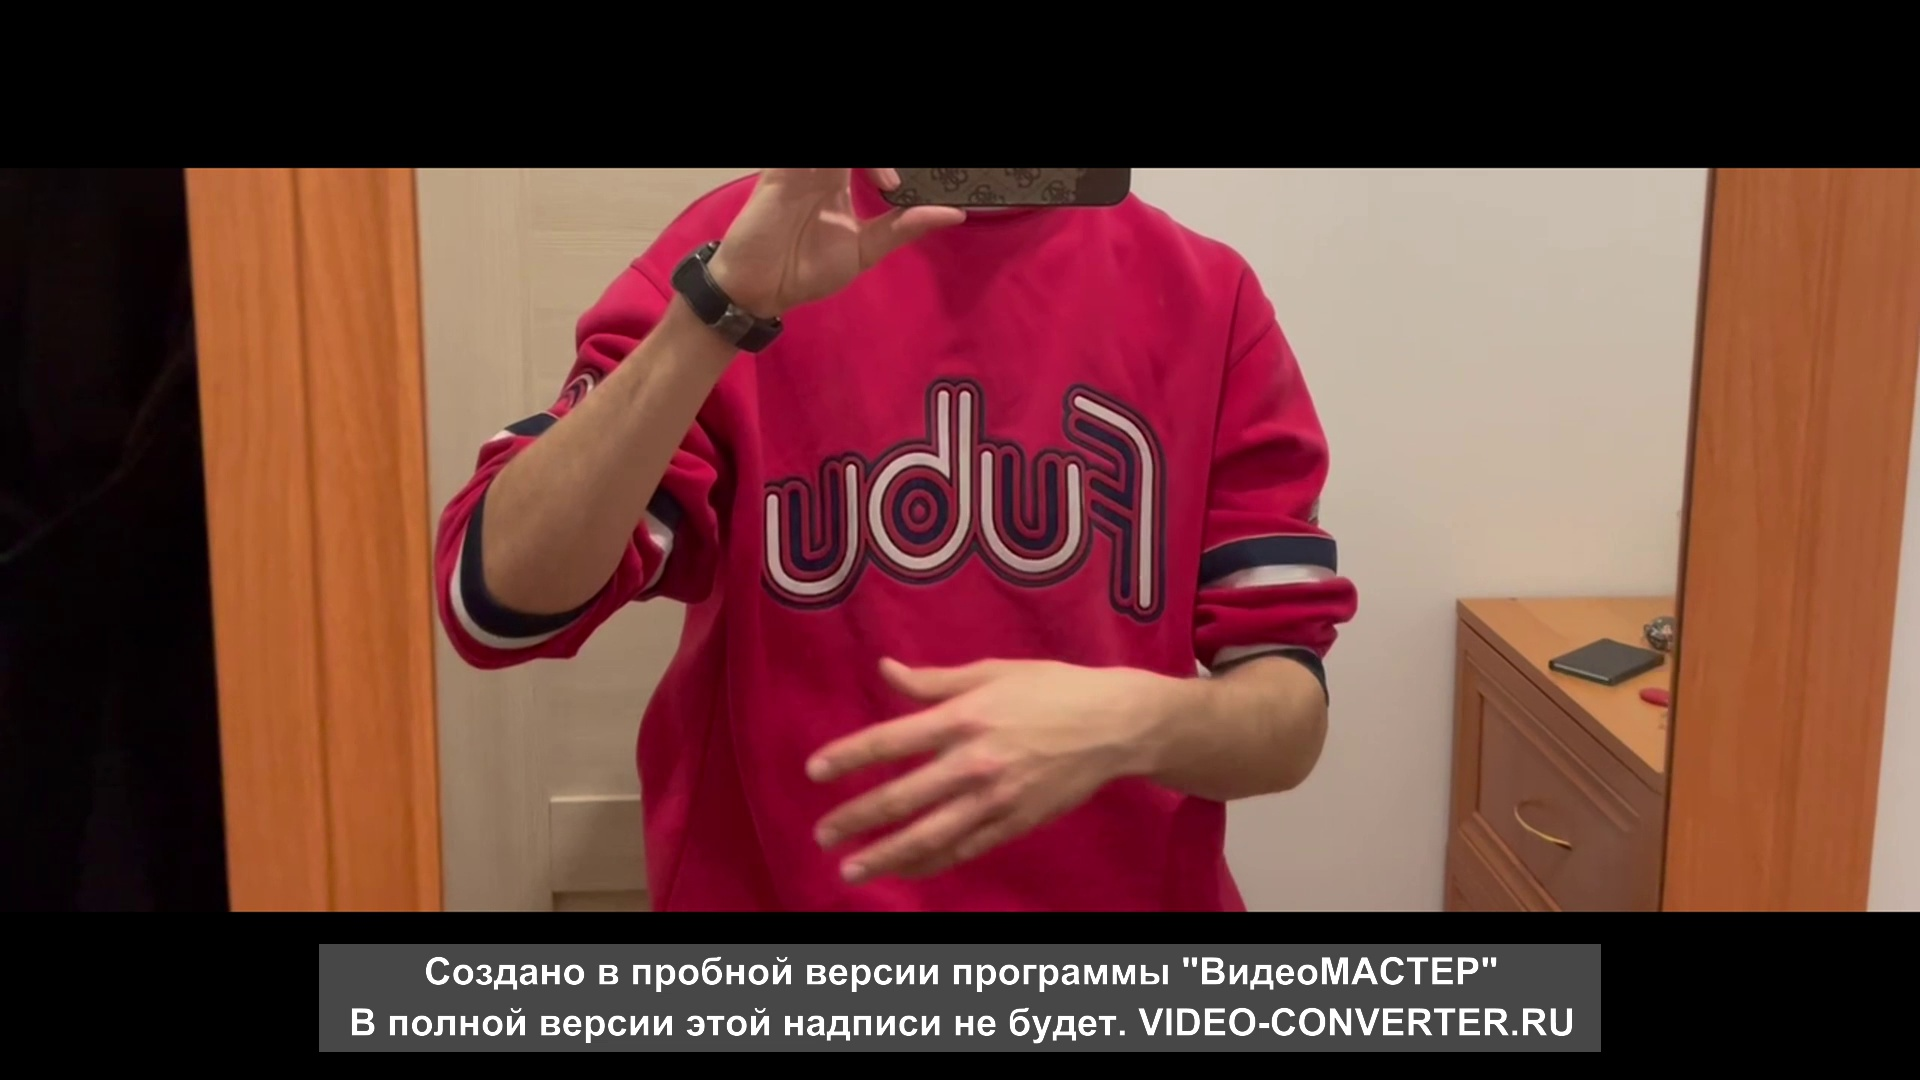Кисть: (802, 653, 1143, 884)
